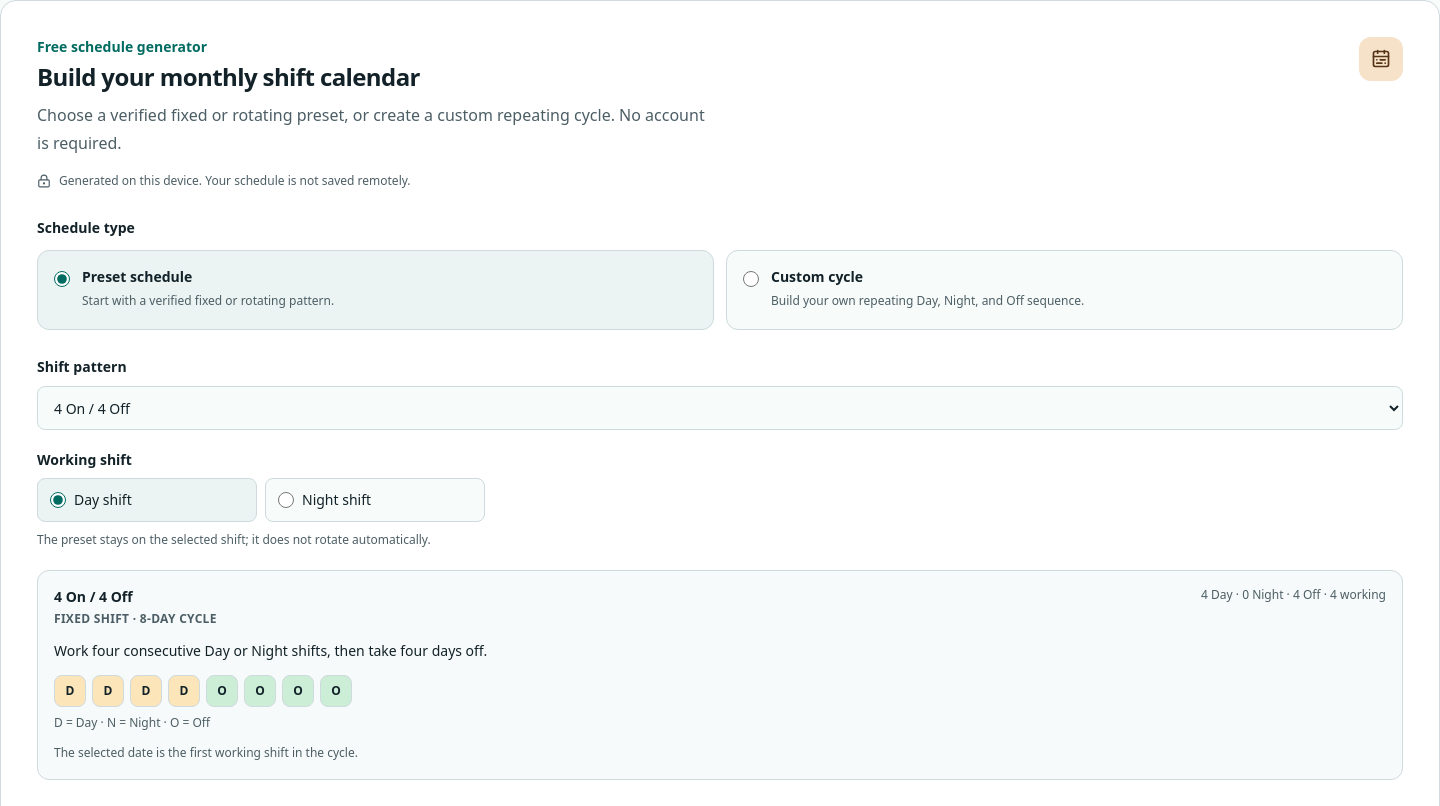
it: monthly generation › generates a custom cycle with visible Day, Night, and Off labels
The width and height of the screenshot is (1440, 806).
Step 1. Click the radio button labelled "Custom cycle" → (751, 279), box [743, 271, 759, 287]
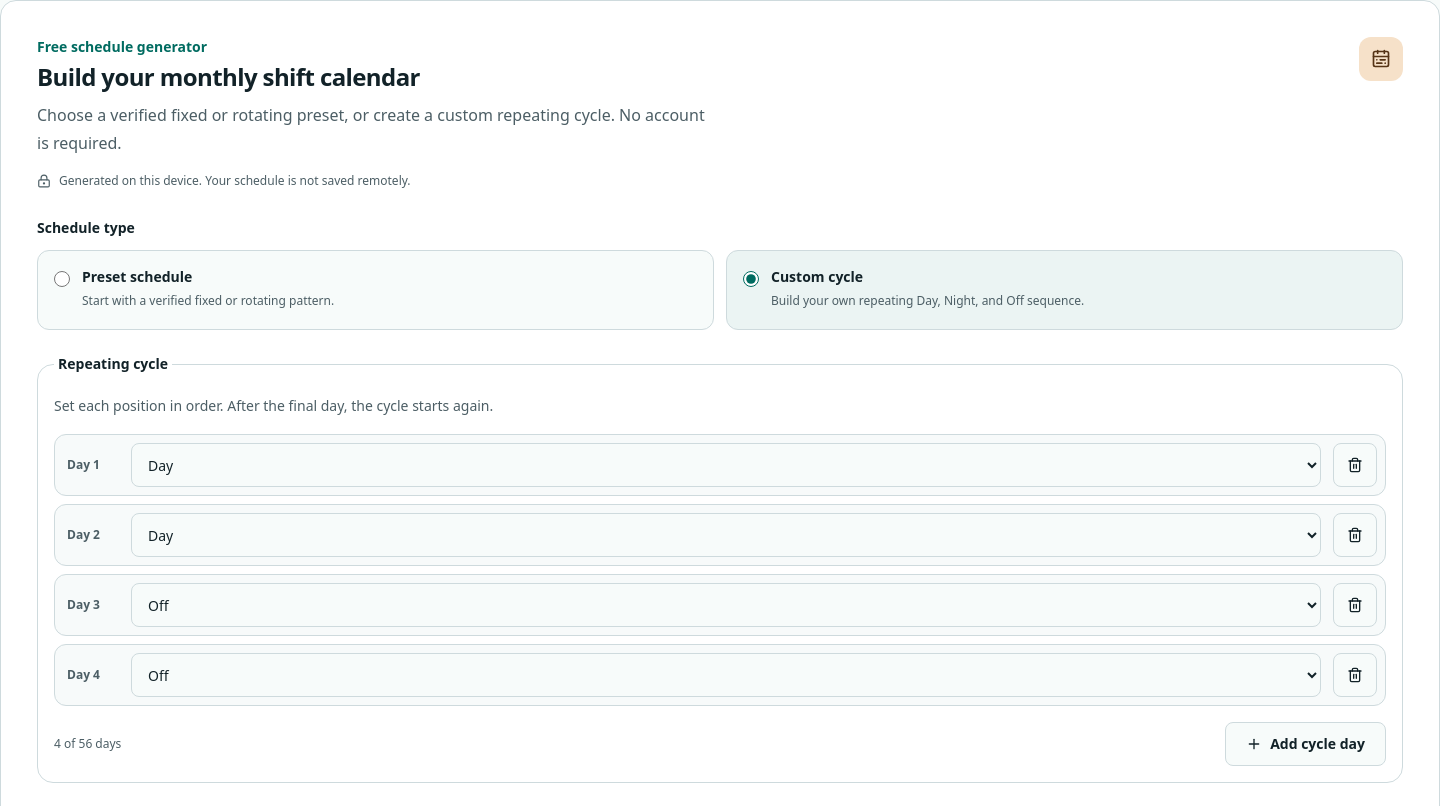
Step 2. Select "Night" in the 2nd dropdown named "shift for cycle day 2" → (726, 535), box [131, 513, 1321, 557]
(page scrolled)
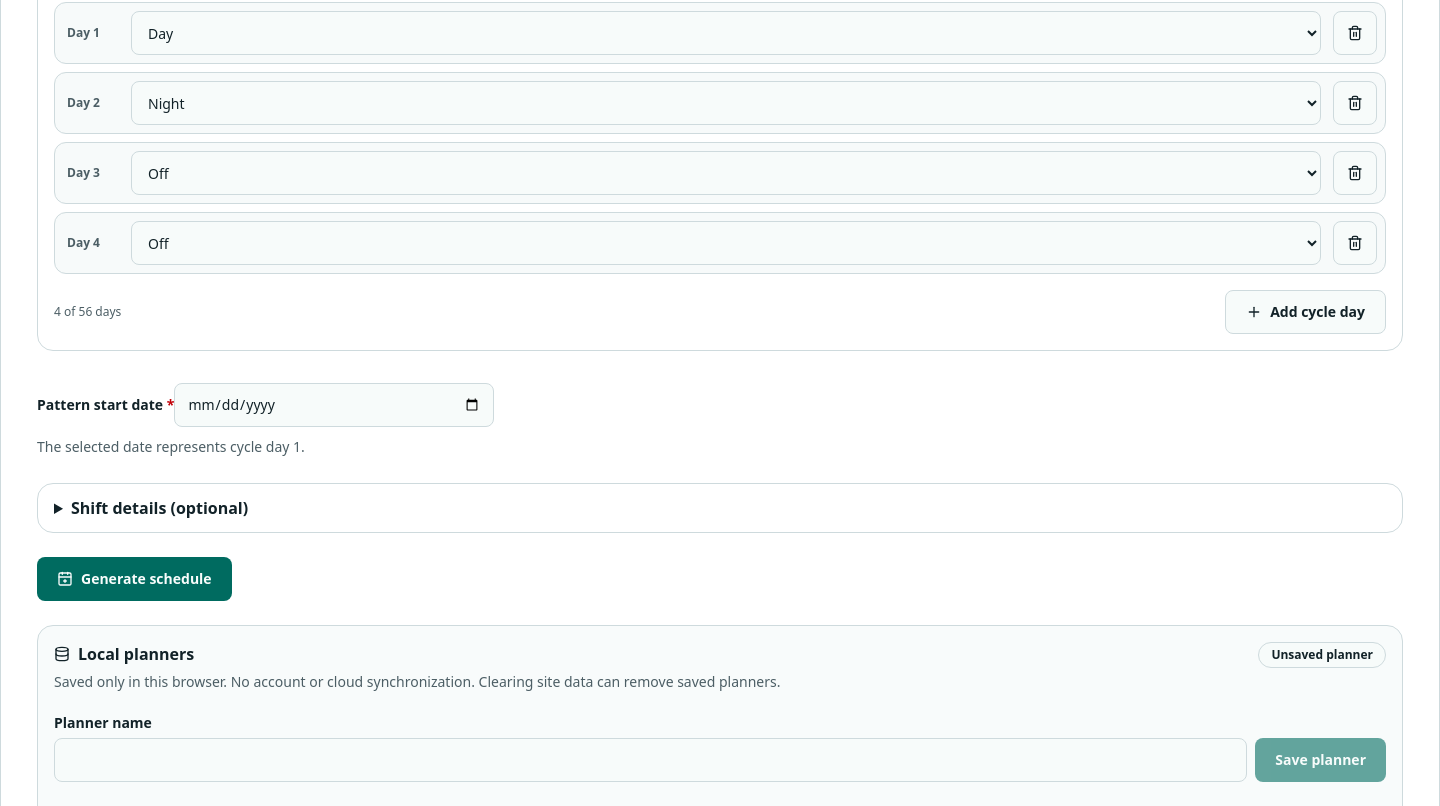
Step 3. Type "2026-10-01" into the date field labelled "Pattern start date *" → (334, 405), box [174, 383, 494, 427]
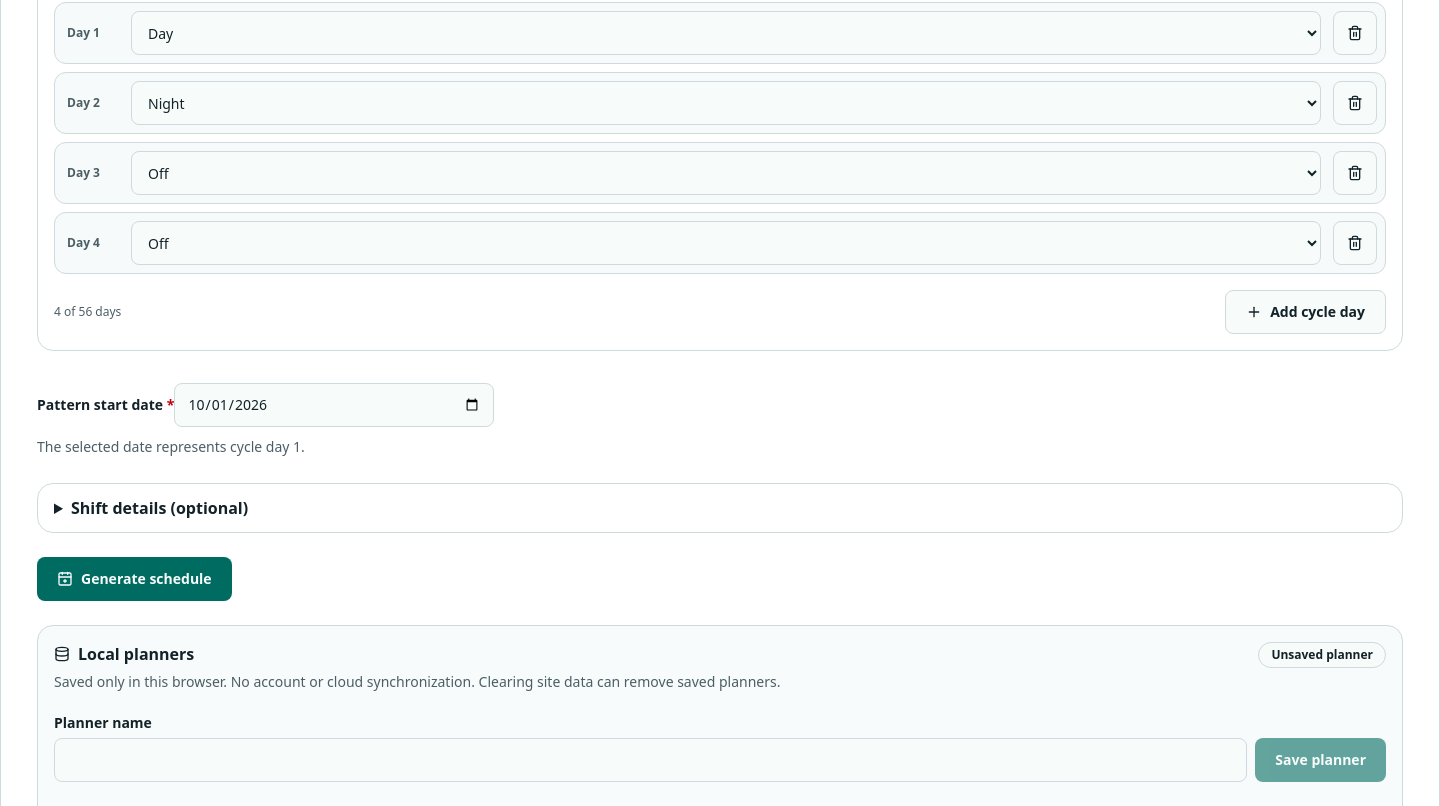
Step 4. Click the button "Generate schedule" → (134, 579), box [37, 557, 232, 601]
(page scrolled)
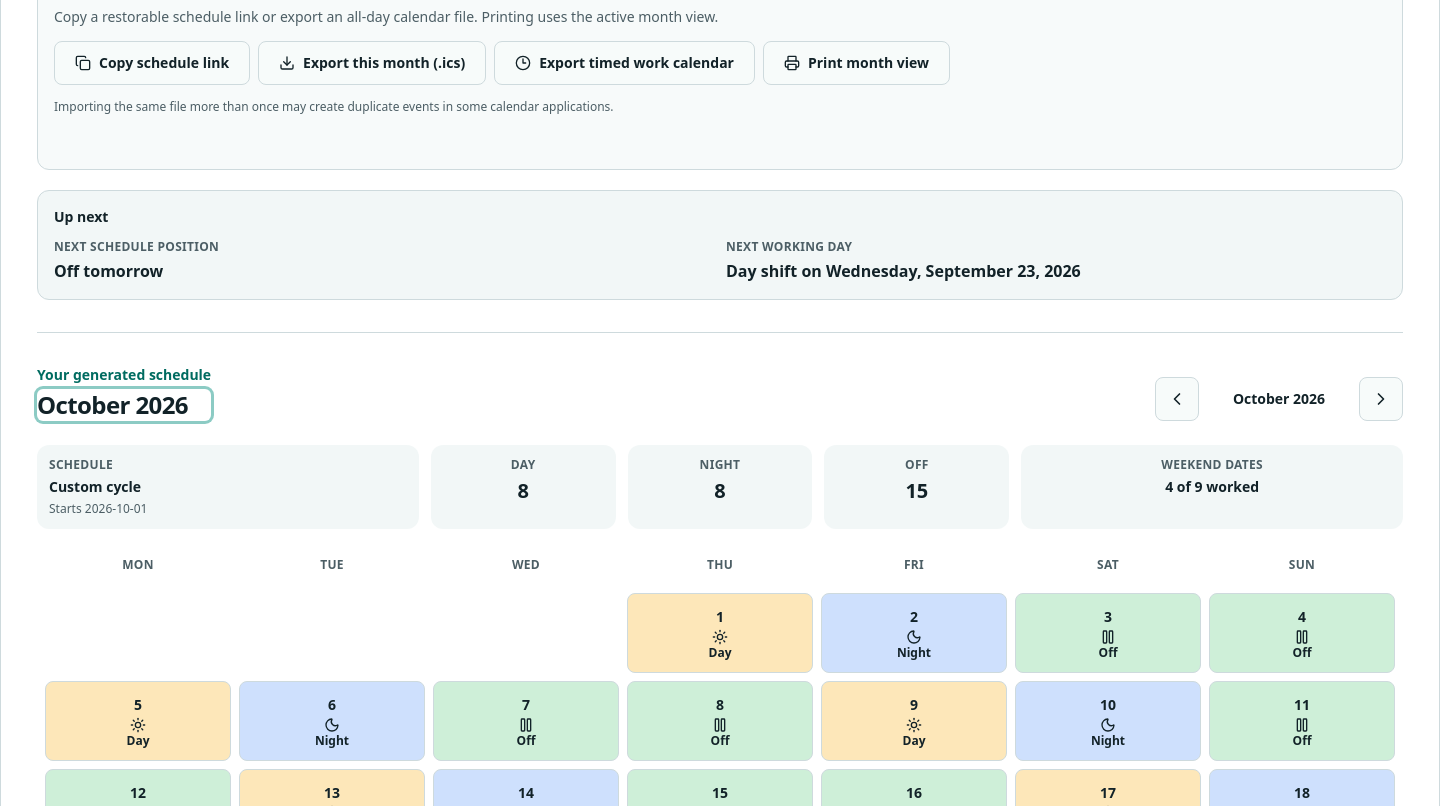
Check: the 2nd text "Day" is shown, box [708, 647, 732, 659]
Check: the 2nd text "Night" is shown, box [897, 647, 931, 659]
Check: the 2nd text "Off" is shown, box [1099, 647, 1117, 659]
